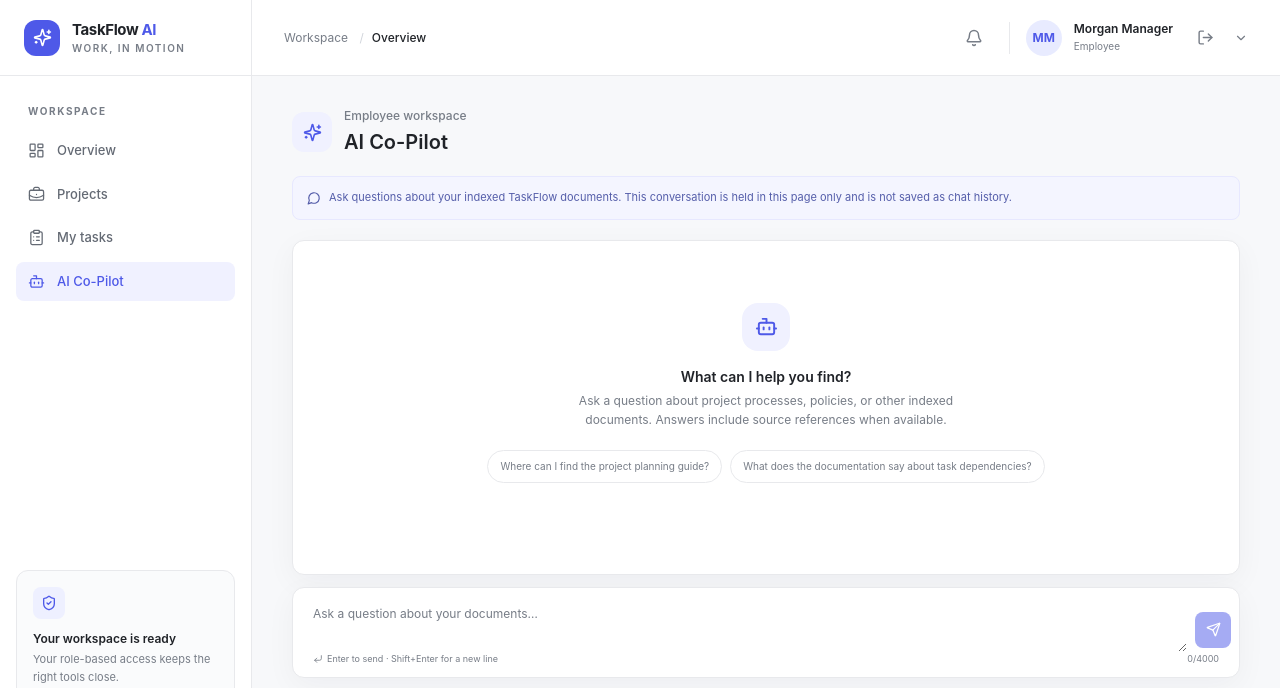
Scenario: manager dashboard flows › uses the AI Co-Pilot response and reuses its conversation ID on follow-up
Type "Where is the project guide?" into the text box named "Ask the AI Co-Pilot" at (744, 624), box [301,596,1187,652]
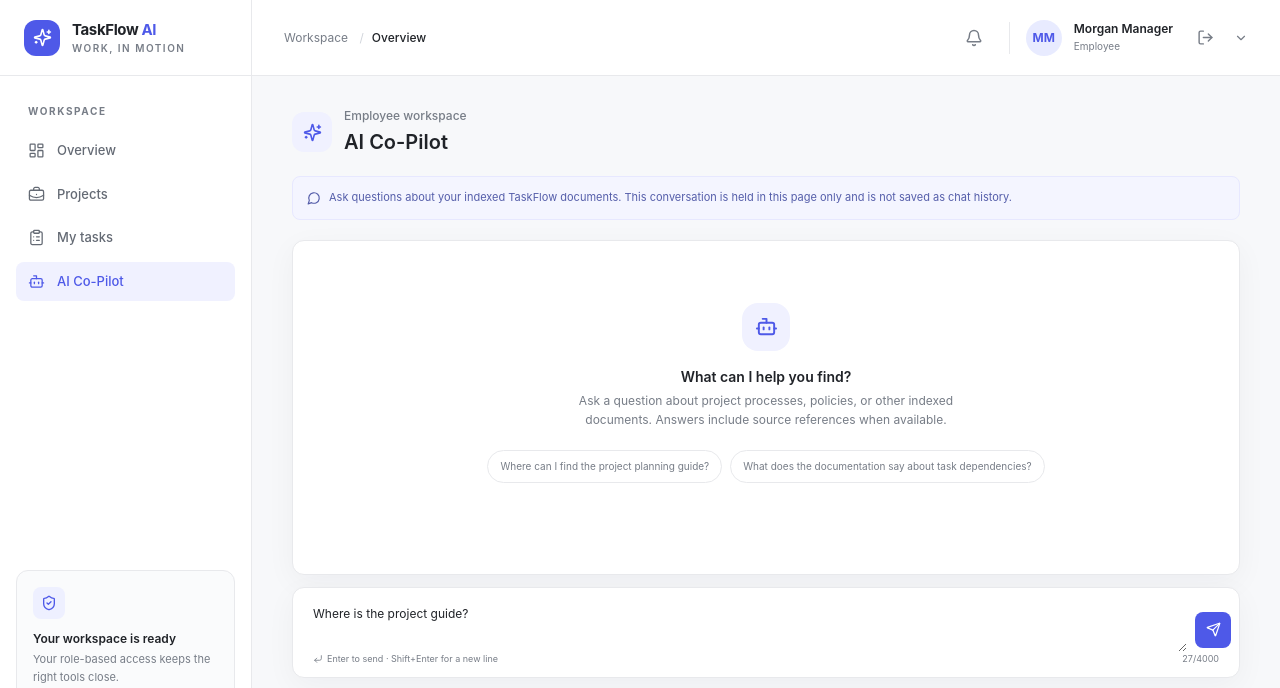
Click the button named "Send question" at (1213, 630), box [1195,612,1231,648]
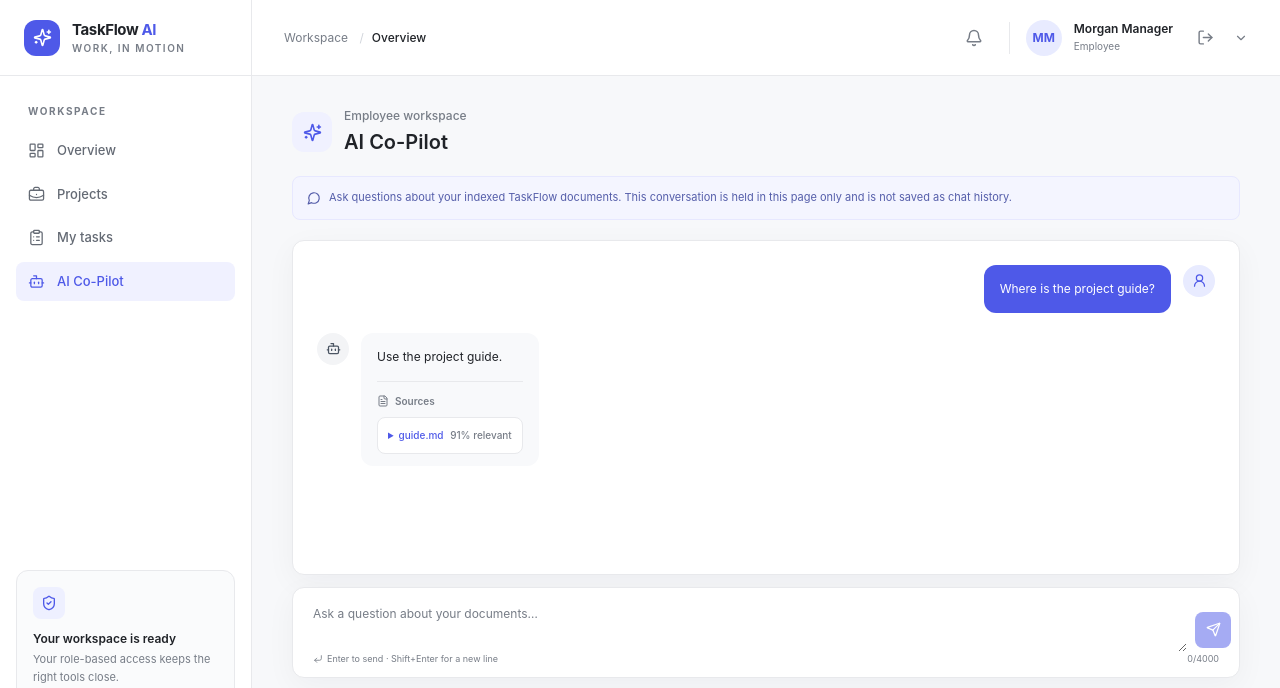
Result: the text "Use the project guide." is shown at [377,345,523,369]
Result: the heading "guide.md 91% relevant" is shown at [388,428,512,443]
Type "Can you clarify?" into the text box named "Ask the AI Co-Pilot" at (744, 624), box [301,596,1187,652]
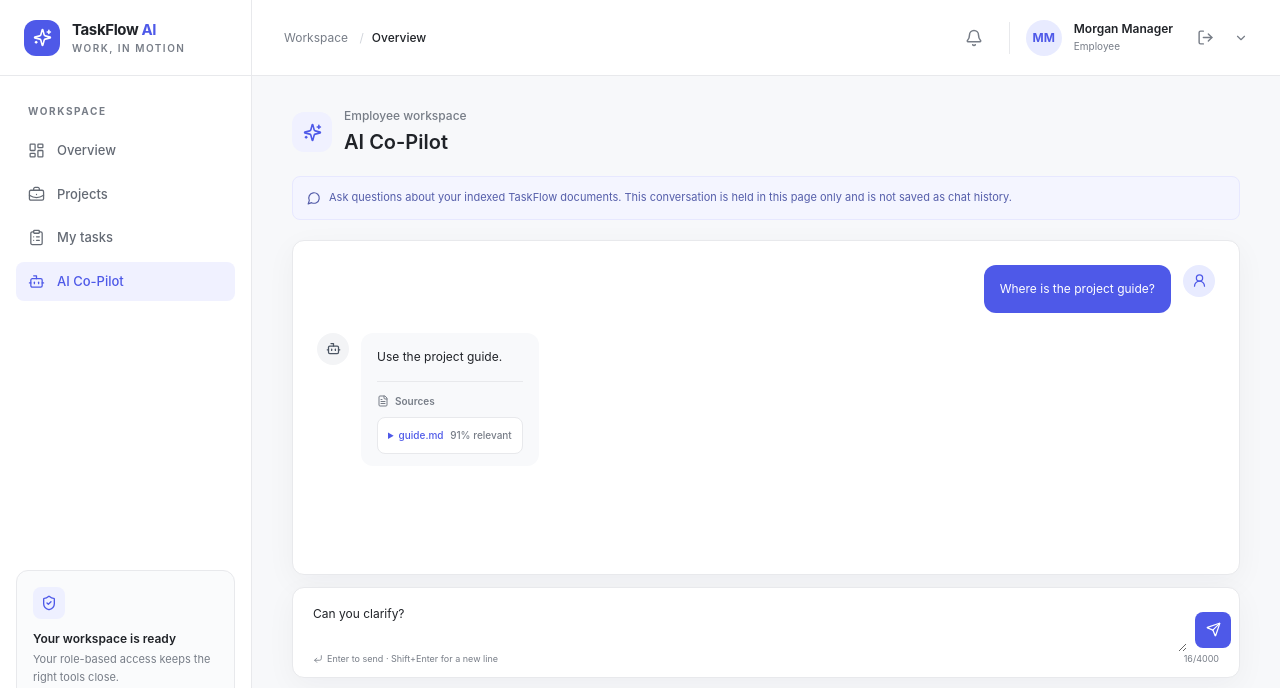
Click the button named "Send question" at (1213, 630), box [1195,612,1231,648]
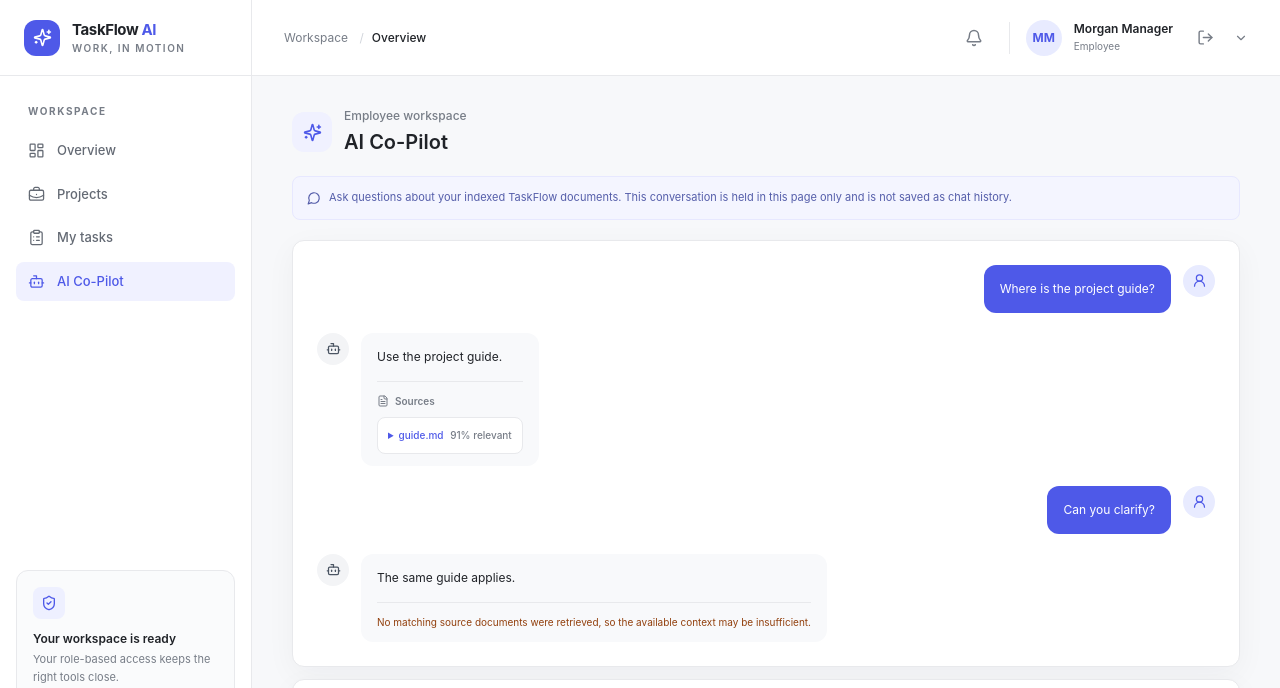
Result: the text "The same guide applies." is shown at [377,570,515,585]
